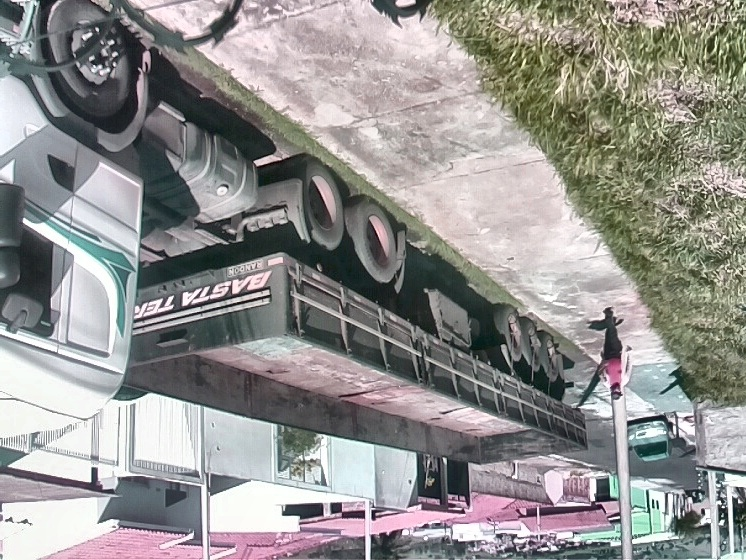person: (588, 307, 634, 401)
